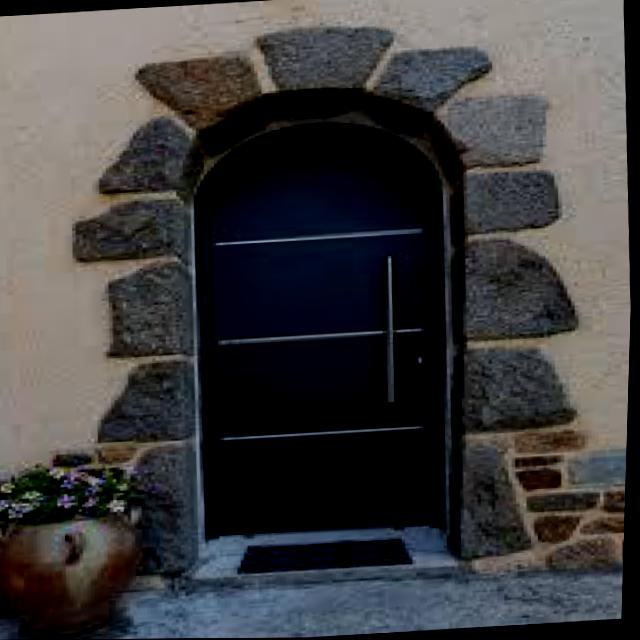close: (138, 58, 504, 577)
